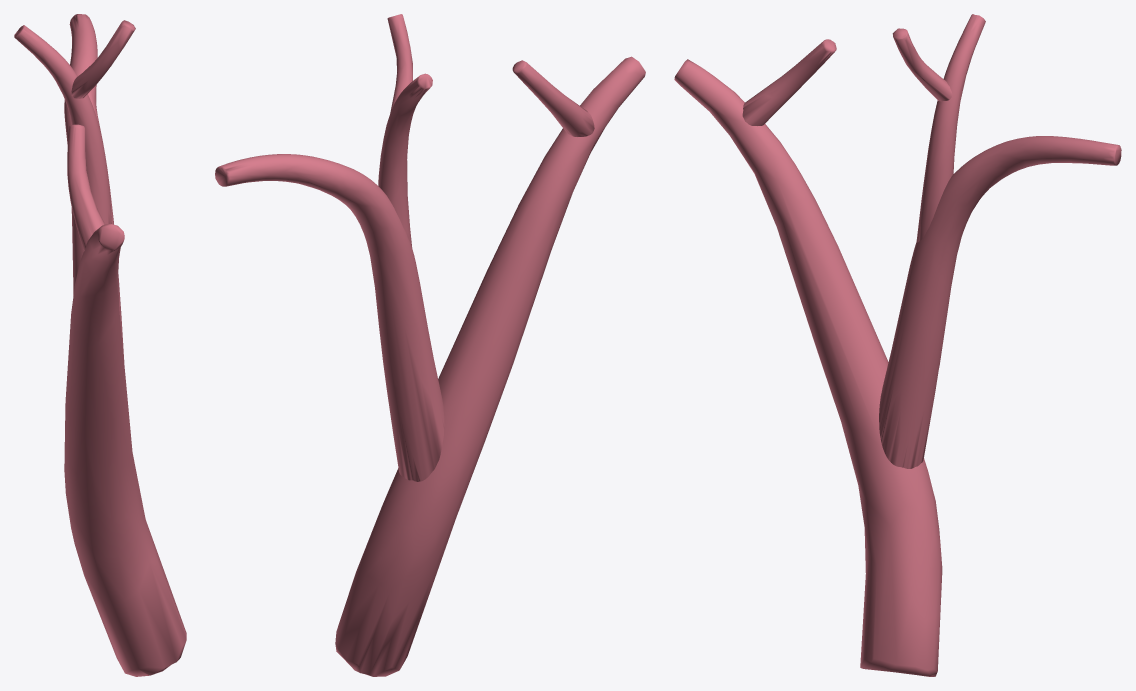
The model's file is Apical_segmental_bronchus_right_lung.glb.
The picture shows the model from 3 angles, left to right: view 1: azimuth 30°, elevation 25°; view 2: azimuth 150°, elevation 25°; view 3: azimuth 270°, elevation 25°; orthographic projection. The views are drawn at different scales.
Parts seen in each view (by area): view 1: Apical_segmental_bronchus_of_right_lung_(BI)_grp1.1812; view 2: Apical_segmental_bronchus_of_right_lung_(BI)_grp1.1812; view 3: Apical_segmental_bronchus_of_right_lung_(BI)_grp1.1812.
Boxes of the visible parts, x1=… form: Apical_segmental_bronchus_of_right_lung_(BI)_grp1.1812: x1=14, y1=14, x2=186, y2=676; Apical_segmental_bronchus_of_right_lung_(BI)_grp1.1812: x1=215, y1=14, x2=645, y2=676; Apical_segmental_bronchus_of_right_lung_(BI)_grp1.1812: x1=674, y1=14, x2=1121, y2=676.
Size of the model in its own units: 0.0224 by 0.067 by 0.0422.
